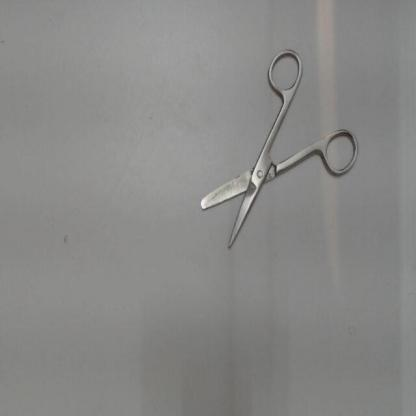Dressing Scissors: (194, 39, 364, 259)
